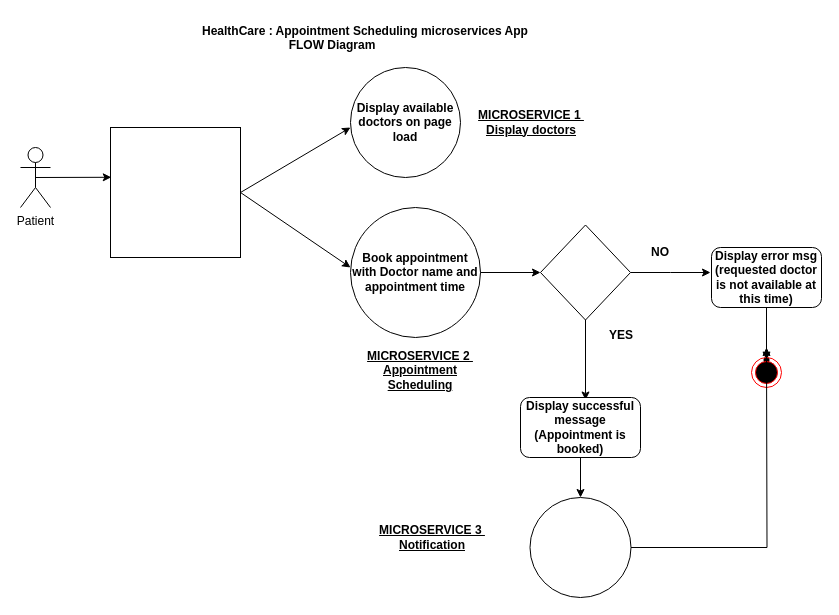
This 839x615 diagram has some shape labels left out. Each missing label, with the centre of its shape:
"Angular Frontend (Appointment Scheduling app)" goes at point (175, 192).
"Doctor available?" goes at point (585, 272).
"Notification Message (doctor appointment details notified to patient)" goes at point (580, 547).
